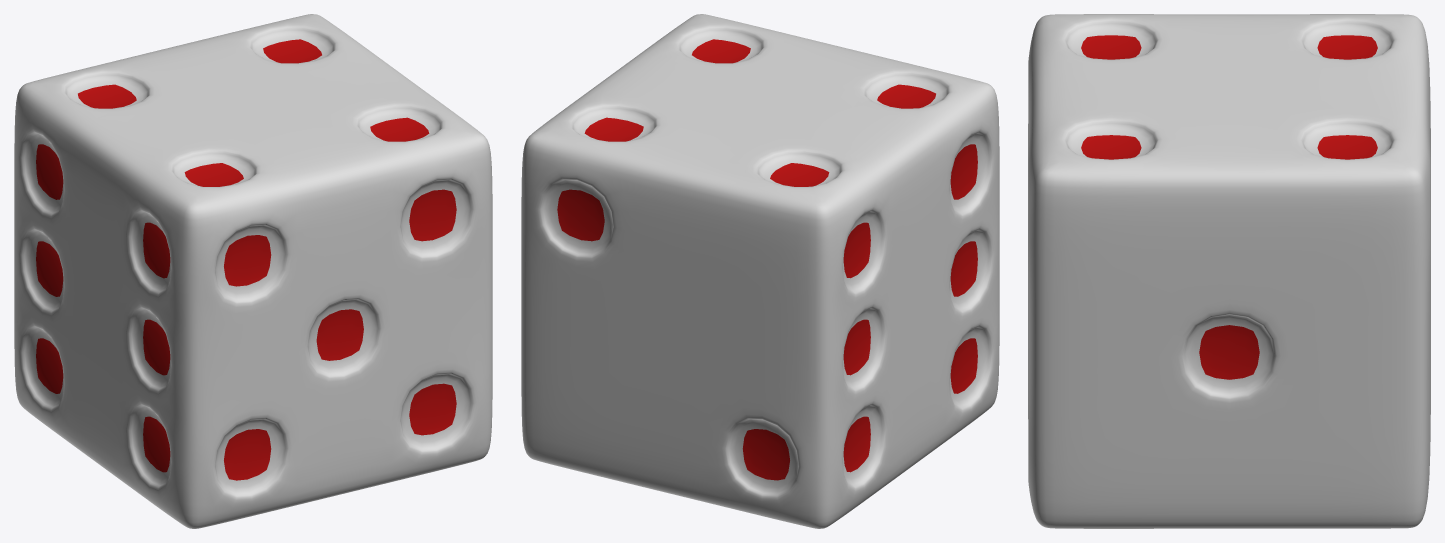
The model's file is dice.obj.
The picture shows the model from 3 angles, left to right: view 1: azimuth 30°, elevation 25°; view 2: azimuth 150°, elevation 25°; view 3: azimuth 270°, elevation 25°; orthographic projection. The views are drawn at different scales.
Visible parts, largest first — view 1: ChamferBox001; view 2: ChamferBox001; view 3: ChamferBox001.
Part boxes in pixels (bbox=[...]): ChamferBox001: bbox=[14, 14, 492, 528]; ChamferBox001: bbox=[521, 14, 999, 528]; ChamferBox001: bbox=[1028, 14, 1430, 528].
Size of the model in its own units: 5 by 5 by 5.
